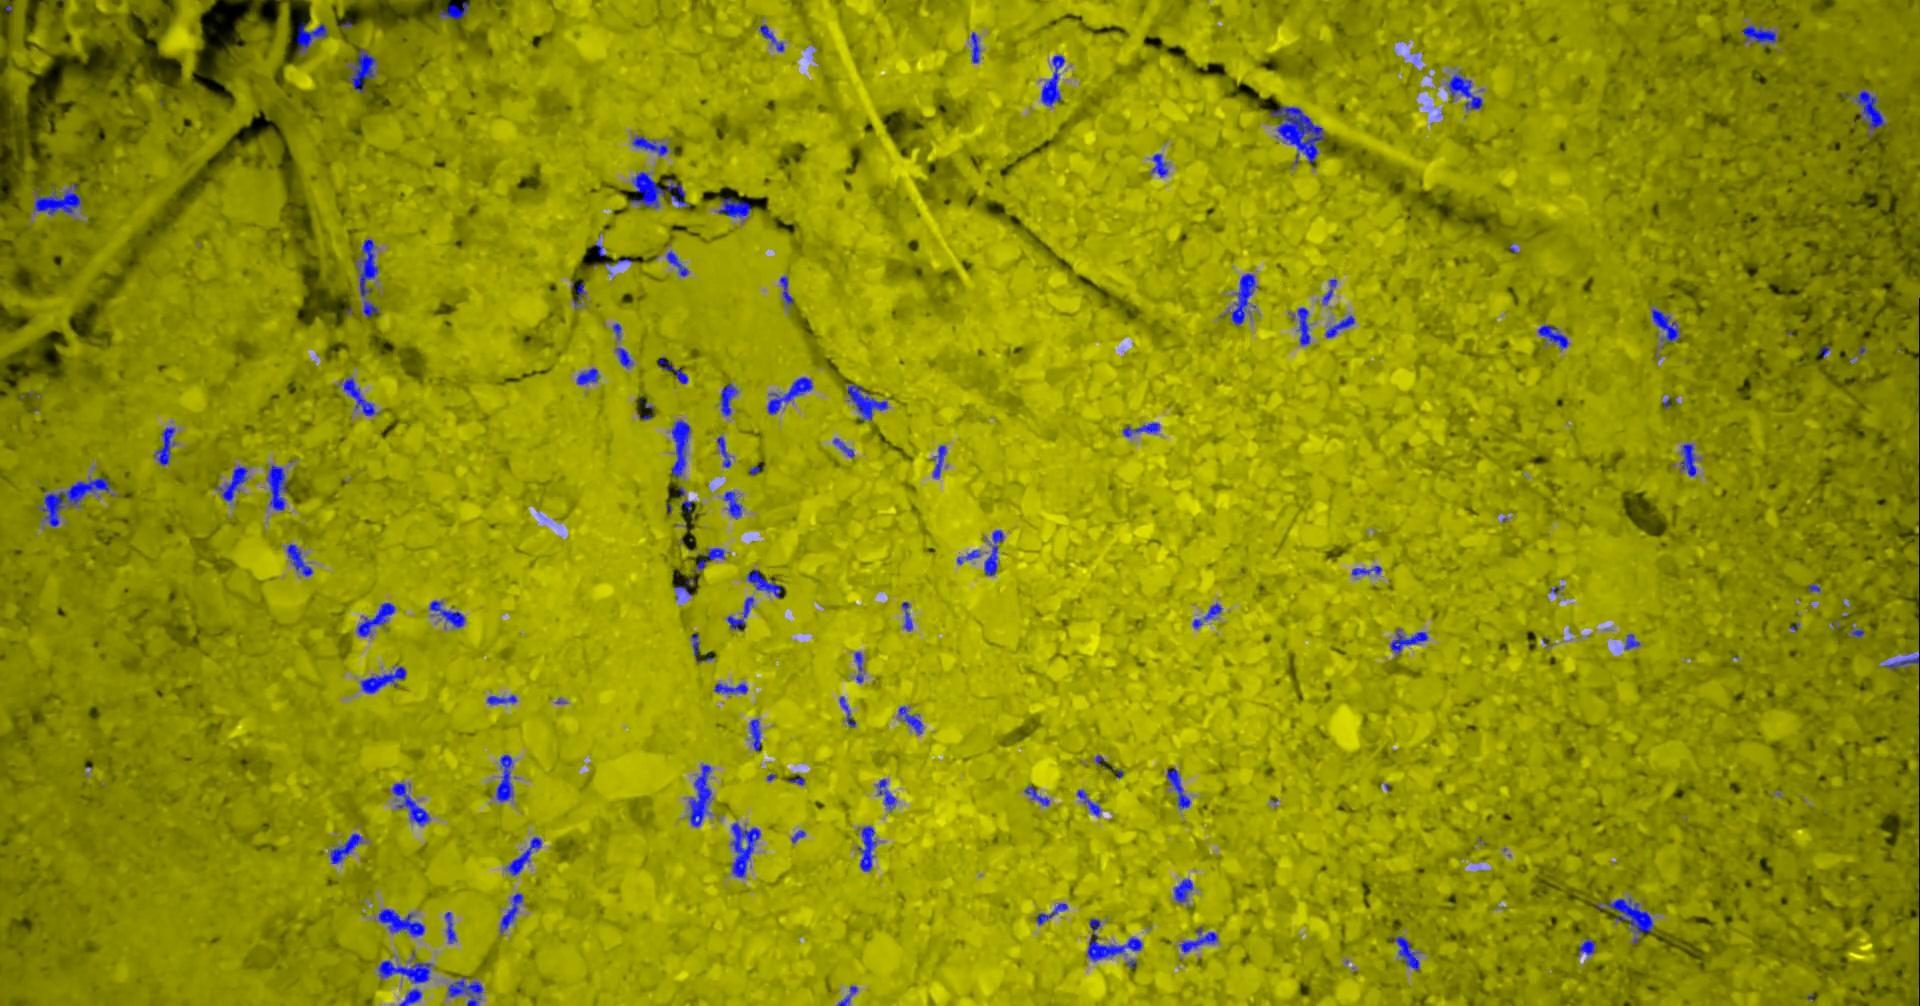ant: (1086, 918, 1142, 962), (1605, 897, 1653, 942), (630, 171, 690, 207), (767, 376, 811, 414), (391, 782, 429, 826), (358, 239, 378, 318), (730, 822, 759, 876), (847, 384, 888, 420), (688, 763, 711, 826), (505, 836, 541, 875), (34, 183, 80, 213), (1230, 273, 1257, 325), (1445, 72, 1482, 109), (356, 602, 395, 636), (359, 666, 405, 694), (378, 908, 424, 936), (347, 48, 375, 93), (1040, 55, 1064, 105), (377, 960, 430, 983), (343, 377, 375, 415), (215, 465, 248, 500), (1855, 90, 1884, 130), (1387, 935, 1418, 970), (670, 420, 690, 478), (1651, 307, 1679, 345), (447, 976, 483, 1005), (1390, 627, 1427, 655), (265, 464, 287, 511), (295, 22, 328, 52), (745, 569, 781, 597), (428, 600, 463, 627), (1178, 926, 1217, 951), (1166, 767, 1189, 808), (499, 892, 522, 932), (329, 833, 361, 862), (726, 596, 753, 630), (984, 528, 1003, 575), (286, 542, 312, 575), (857, 826, 876, 871), (657, 356, 687, 384), (1537, 324, 1568, 349), (495, 754, 512, 801), (154, 427, 174, 465), (1291, 307, 1310, 345), (631, 135, 667, 155), (897, 705, 922, 733), (1192, 603, 1222, 627), (1076, 789, 1101, 815), (1742, 25, 1775, 46), (717, 197, 750, 217), (876, 779, 897, 810), (1035, 903, 1067, 923), (759, 24, 783, 51), (696, 547, 724, 570), (690, 633, 712, 661), (1883, 652, 1919, 669), (1324, 315, 1354, 337), (665, 250, 688, 276), (1123, 422, 1159, 437), (723, 490, 742, 520), (438, 0, 469, 18), (720, 384, 737, 415), (1023, 785, 1049, 805), (1680, 443, 1695, 476), (839, 696, 855, 727), (932, 445, 946, 478), (1173, 878, 1192, 902), (716, 436, 730, 467), (836, 984, 857, 1005), (832, 438, 855, 457), (1150, 152, 1167, 177), (397, 988, 422, 1005), (778, 276, 792, 304), (615, 347, 632, 368), (956, 549, 980, 564), (749, 719, 761, 751), (444, 911, 456, 942), (577, 367, 598, 384), (1322, 278, 1336, 304), (712, 683, 747, 694), (571, 283, 585, 307), (970, 30, 980, 64), (673, 578, 693, 594), (1351, 565, 1382, 575), (902, 601, 912, 630), (486, 694, 516, 704), (1623, 633, 1639, 649), (1577, 939, 1594, 955), (855, 652, 862, 682), (681, 500, 695, 512)
